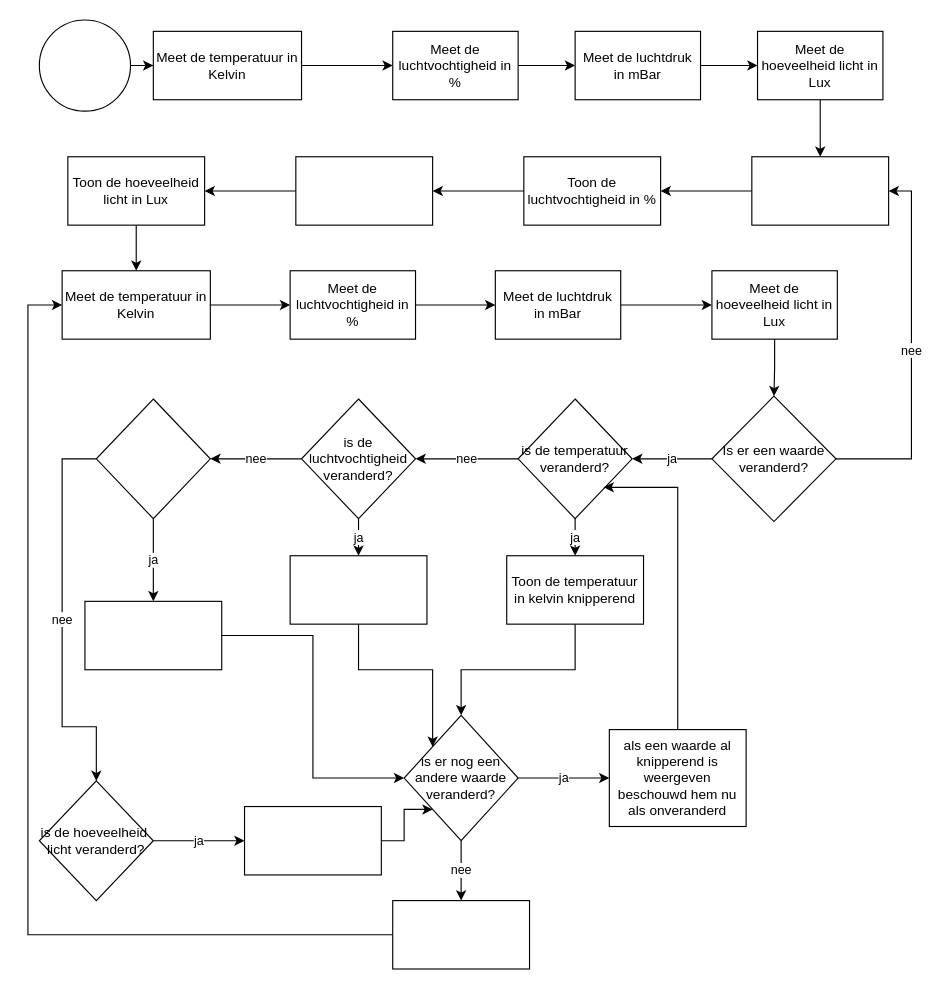
Some shapes in this 942 by 990 pixel diagram are drawn without their labels. Each missing label, with the centre of its shape:
"is de luchtdruk veranderd?" belongs at [152,458].
"Start" belongs at [84,65].
"Toon de hoeveelheid licht in Lux knipperend" belongs at [312,840].
"Toon de luchtdruk in mBar" belongs at [364,190].
"Toon de Luchtdruk in mBar knipperend" belongs at [153,635].
"Toon de luchtvochtigheid in % knipperend" belongs at [358,589].
"Toon de temperatuur in kelvin" belongs at [820,190].
"wacht 4 minuten" belongs at [461,934].
